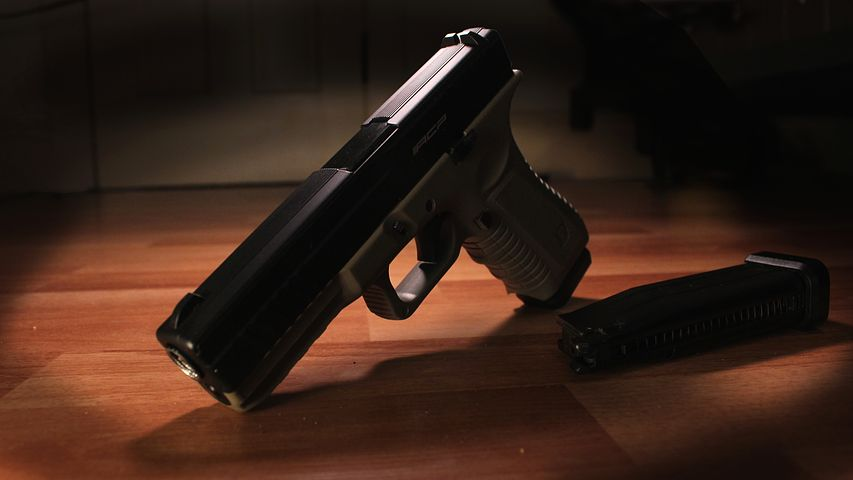gun: (152, 22, 609, 418)
